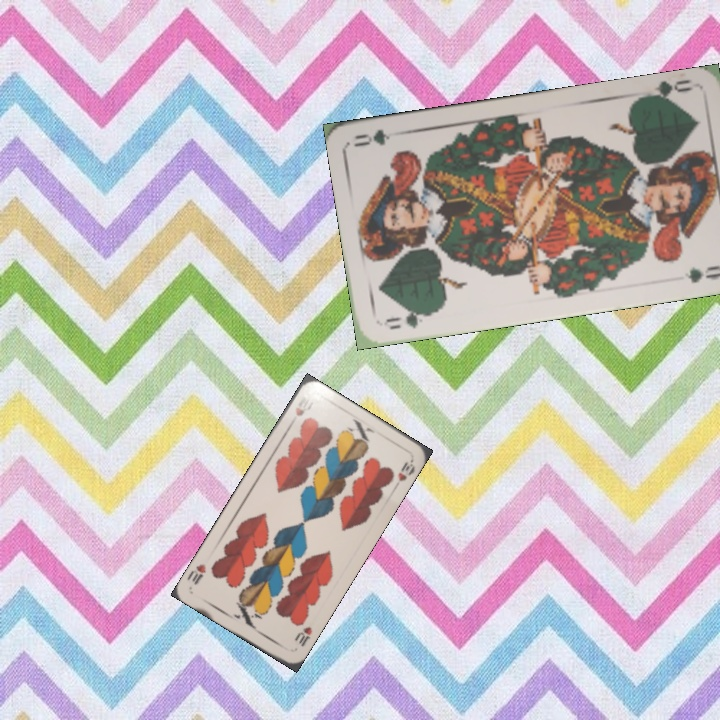GO: (637, 75, 696, 105), (382, 306, 436, 332)
H10: (286, 389, 313, 429), (290, 622, 315, 650)
